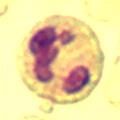neutrophil: (22, 16, 105, 105)
